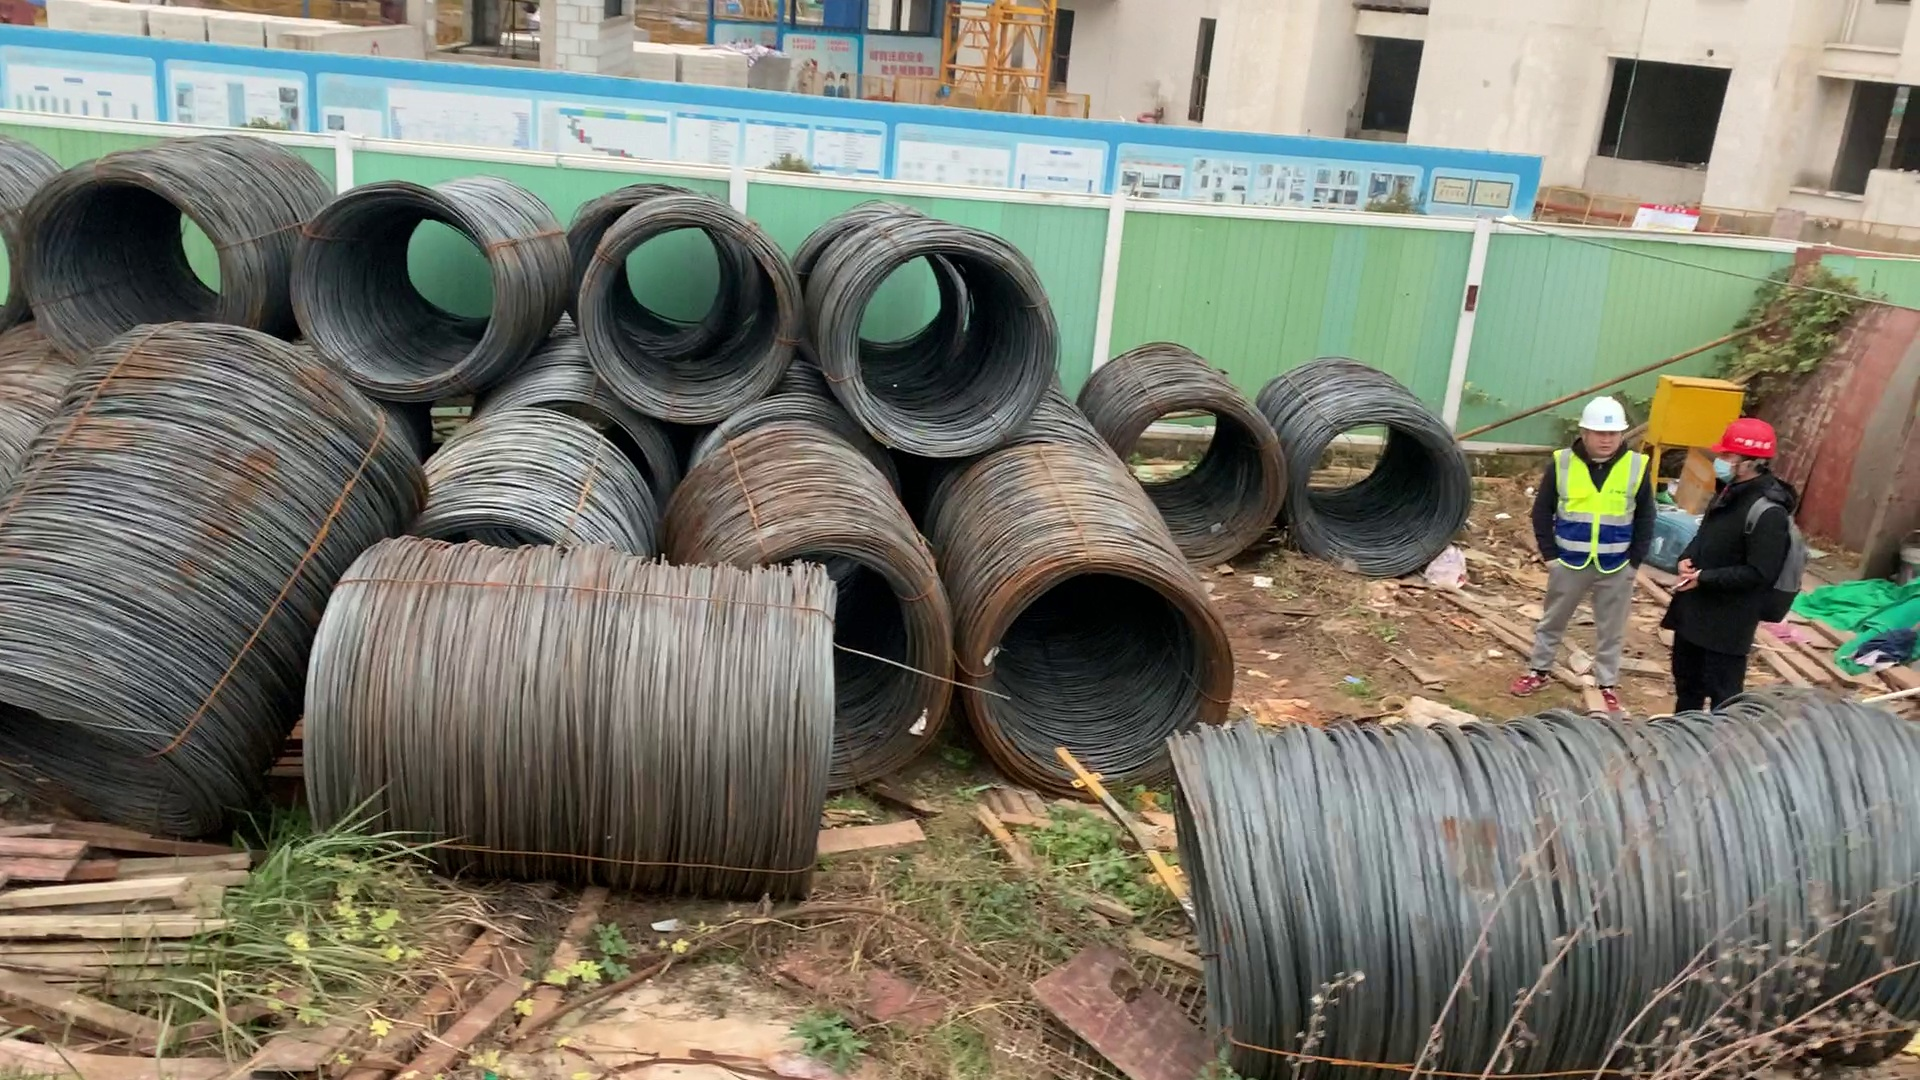coil: (717, 538, 953, 802), (968, 574, 1238, 799), (21, 160, 272, 352), (582, 214, 802, 427), (849, 243, 1060, 465), (1, 679, 257, 862), (307, 189, 521, 402), (1113, 382, 1288, 566), (1299, 407, 1477, 582)
